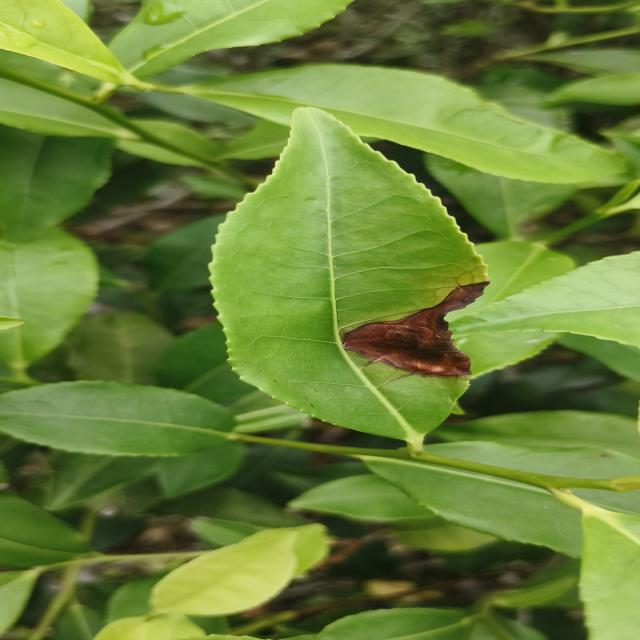Leaf: (211, 108, 487, 449), (180, 64, 622, 184), (362, 456, 582, 557), (110, 0, 352, 78), (445, 241, 575, 378), (0, 381, 234, 457), (454, 252, 640, 346), (0, 227, 98, 381), (425, 154, 578, 241), (0, 125, 114, 241), (151, 533, 297, 616), (0, 0, 138, 84), (156, 321, 254, 403), (66, 311, 176, 384), (431, 442, 638, 478), (0, 81, 126, 138), (288, 474, 435, 522), (0, 494, 93, 567), (141, 214, 225, 294), (46, 452, 158, 511), (156, 442, 245, 498), (316, 608, 470, 640), (489, 87, 568, 130), (577, 488, 640, 513)
